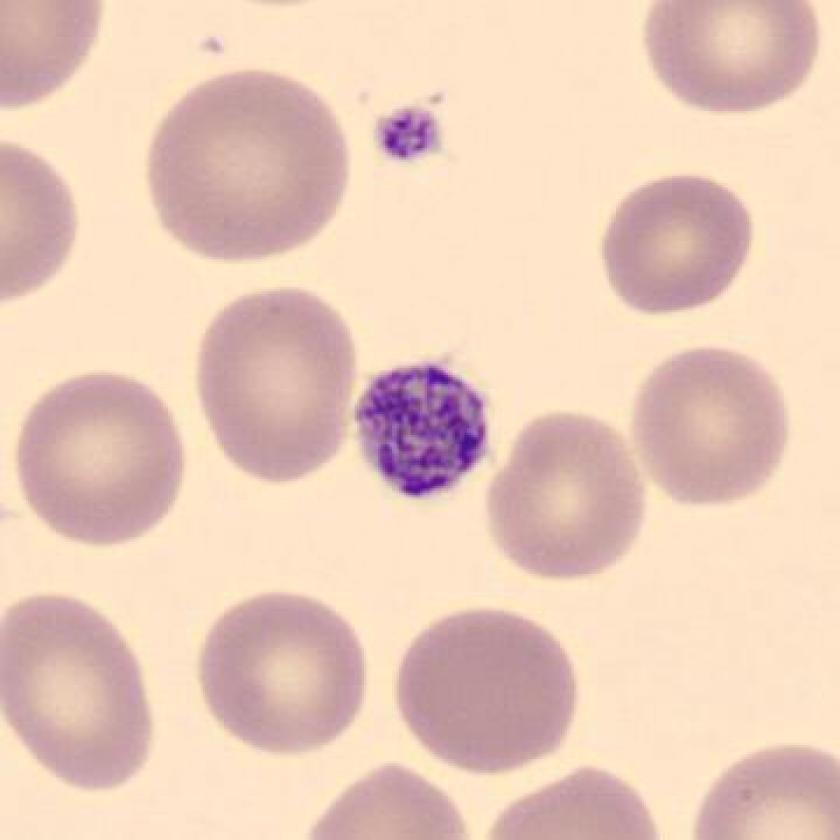platelets: (346, 351, 503, 510), (363, 96, 454, 172)
